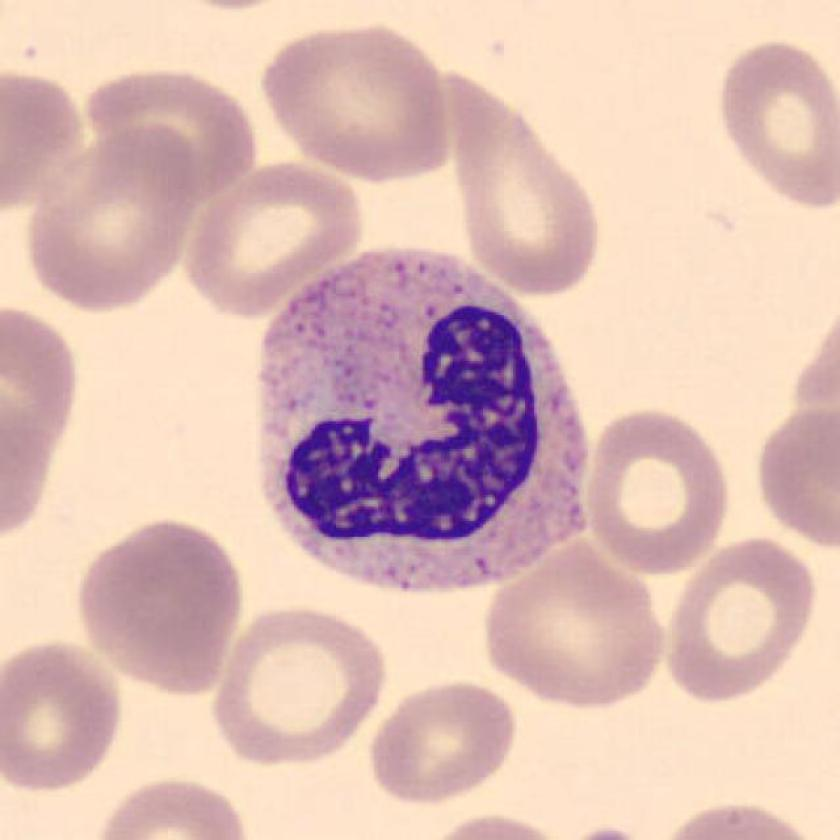neutrophil: (258, 246, 585, 593)
